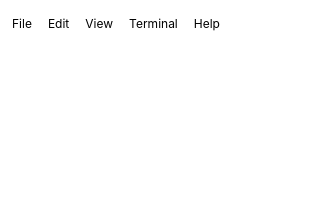
Test: MenuBar — dropdowns › opens a dropdown when a top-level label is clicked
Expected: the text "Open Folder..." is not shown
Click the button "File": (22, 24) [4, 16, 40, 32]
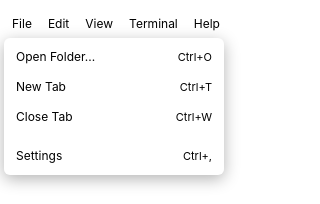
Expected: the text "Open Folder..." is shown, [16, 48, 95, 66]
